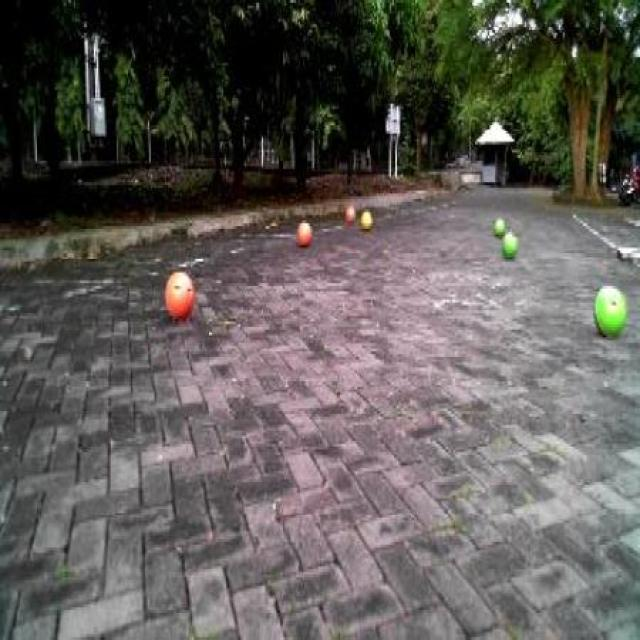buoy: (588, 277, 632, 342), (162, 265, 198, 327), (498, 220, 520, 262), (294, 216, 314, 249), (356, 201, 374, 231), (343, 202, 358, 230), (492, 216, 508, 240)
